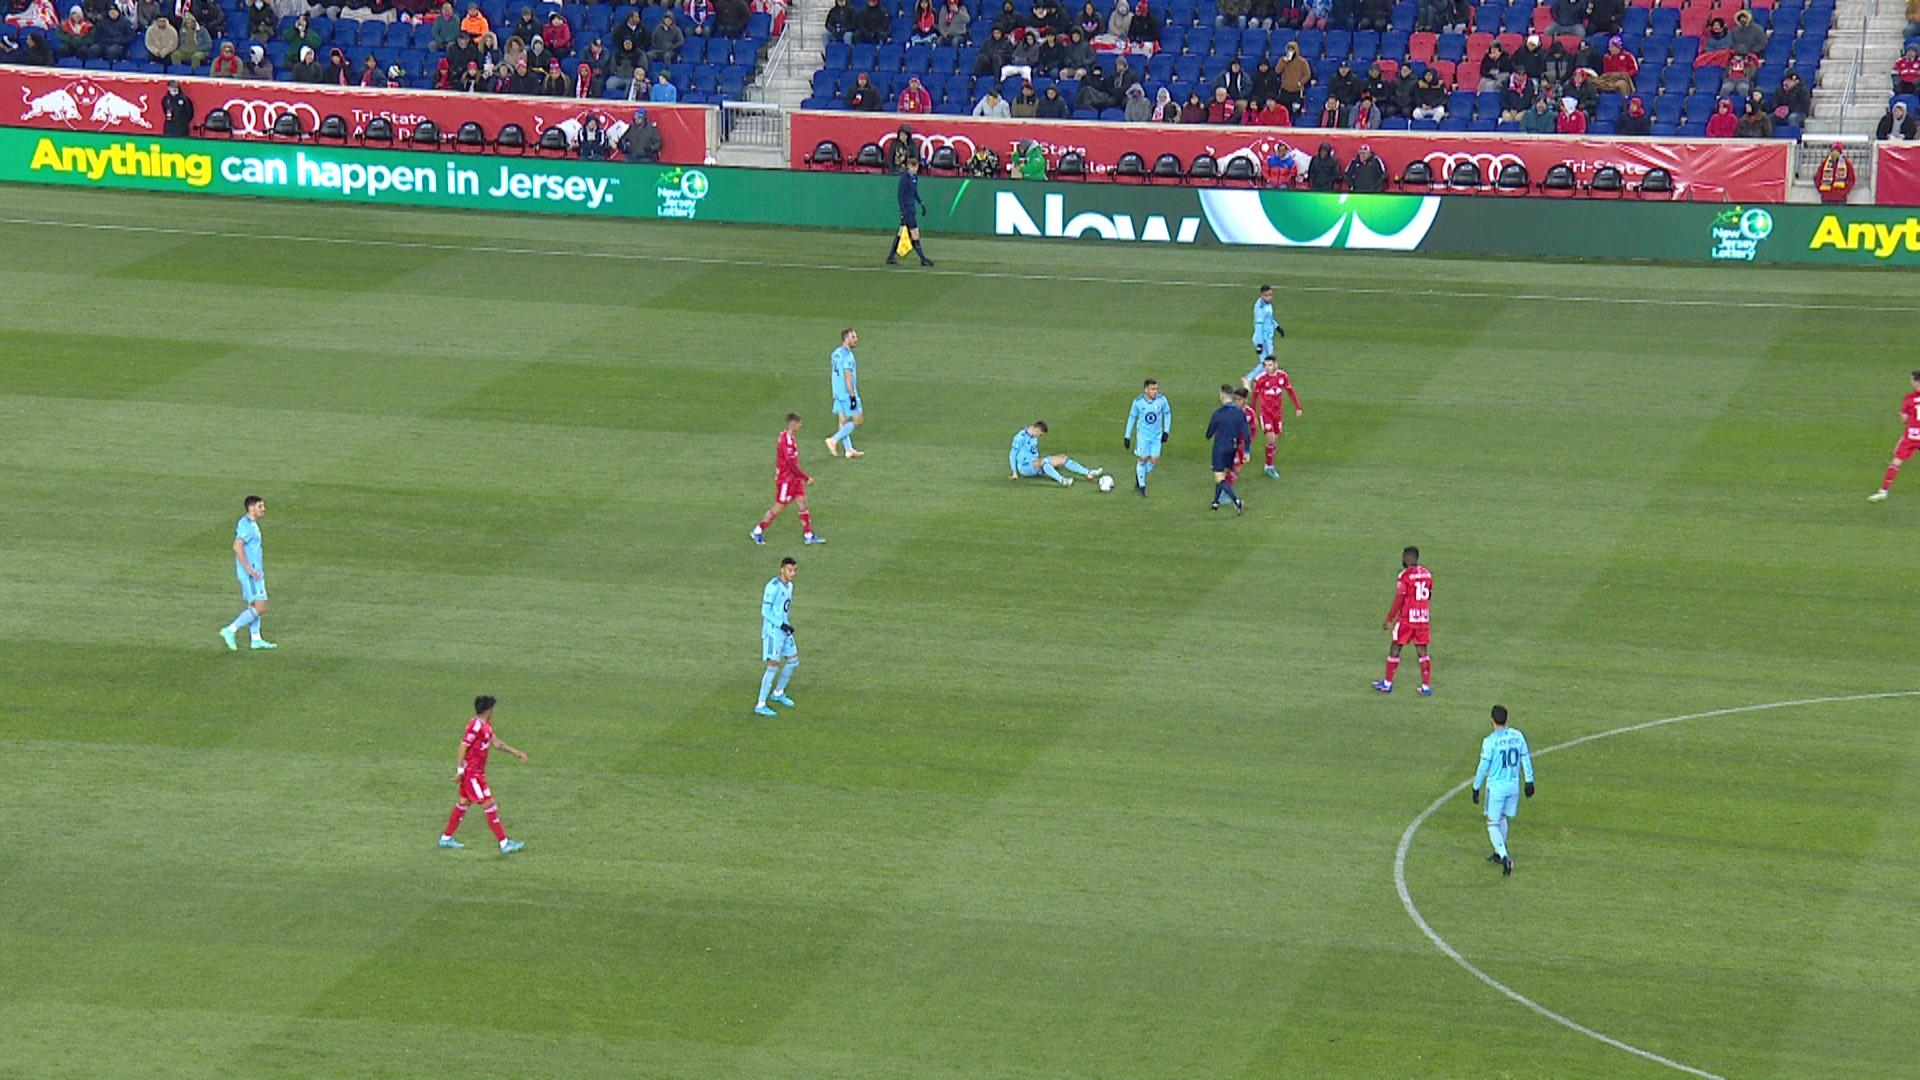football: (1098, 475, 1114, 492)
